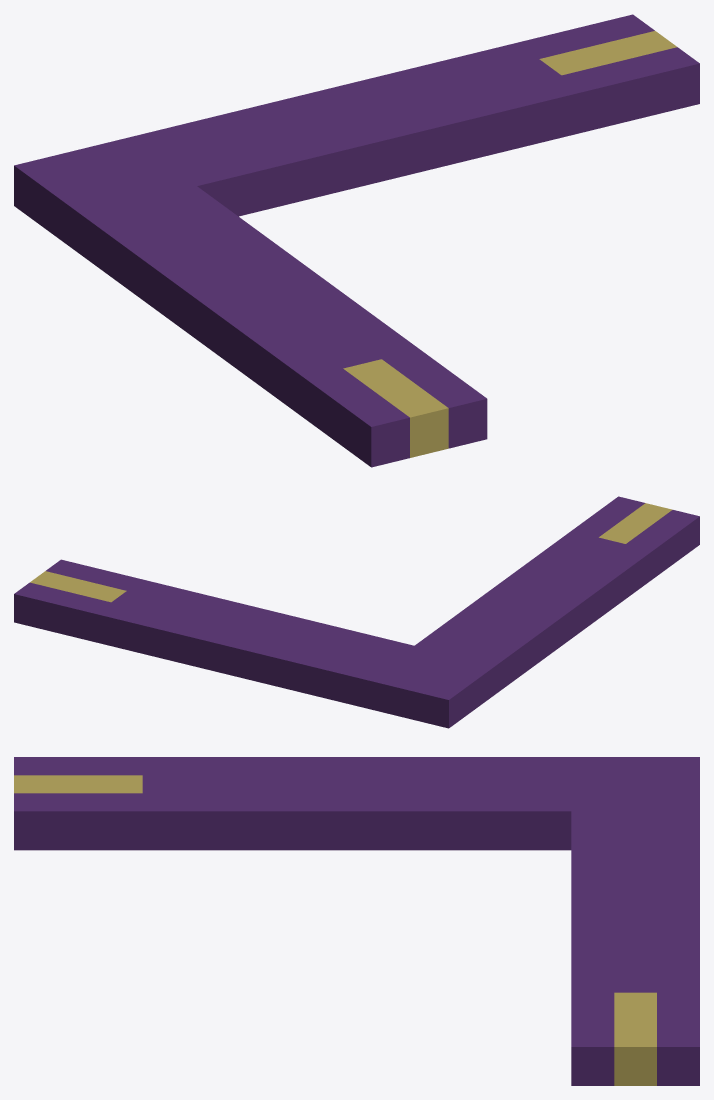
Rendered from vox_boomerang.glb.
3 views of the same model, one above another, from view 1: azimuth 30°, elevation 25°; view 2: azimuth 150°, elevation 25°; view 3: azimuth 270°, elevation 25° (orthographic). The views are drawn at different scales.
Parts seen in each view (by area): view 1: vox_boomerang; view 2: vox_boomerang; view 3: vox_boomerang.
Boxes of the visible parts, box(x1,y1,x2,y2) form: vox_boomerang: box(14, 14, 699, 467); vox_boomerang: box(14, 496, 699, 728); vox_boomerang: box(14, 757, 699, 1085).
Bounding box in the file's own units: 0.32 × 0.02 × 0.32.
